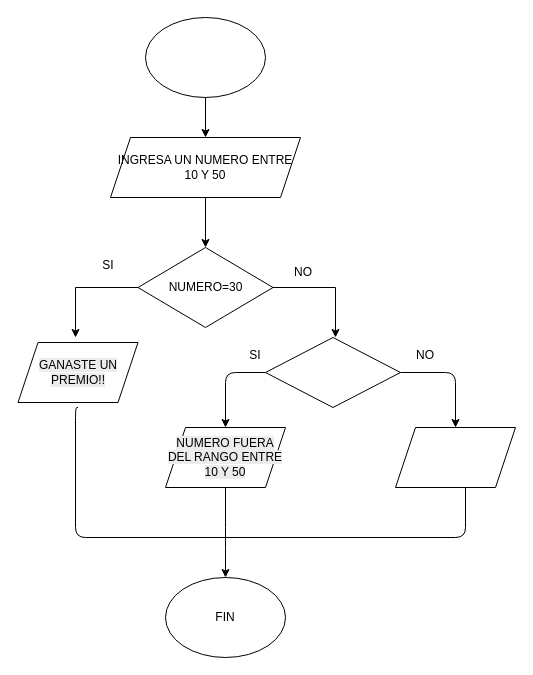
Some shapes in this 533 by 675 pixel diagram are drawn without their labels. The shapes that lost their labels are listed below. From the top down, each one's centre as x and y in pixels, then its label:
At (x=205, y=57): "INICIO".
At (x=332, y=372): "NUMERO<10 O >50".
At (x=455, y=457): "PERDISTE".
